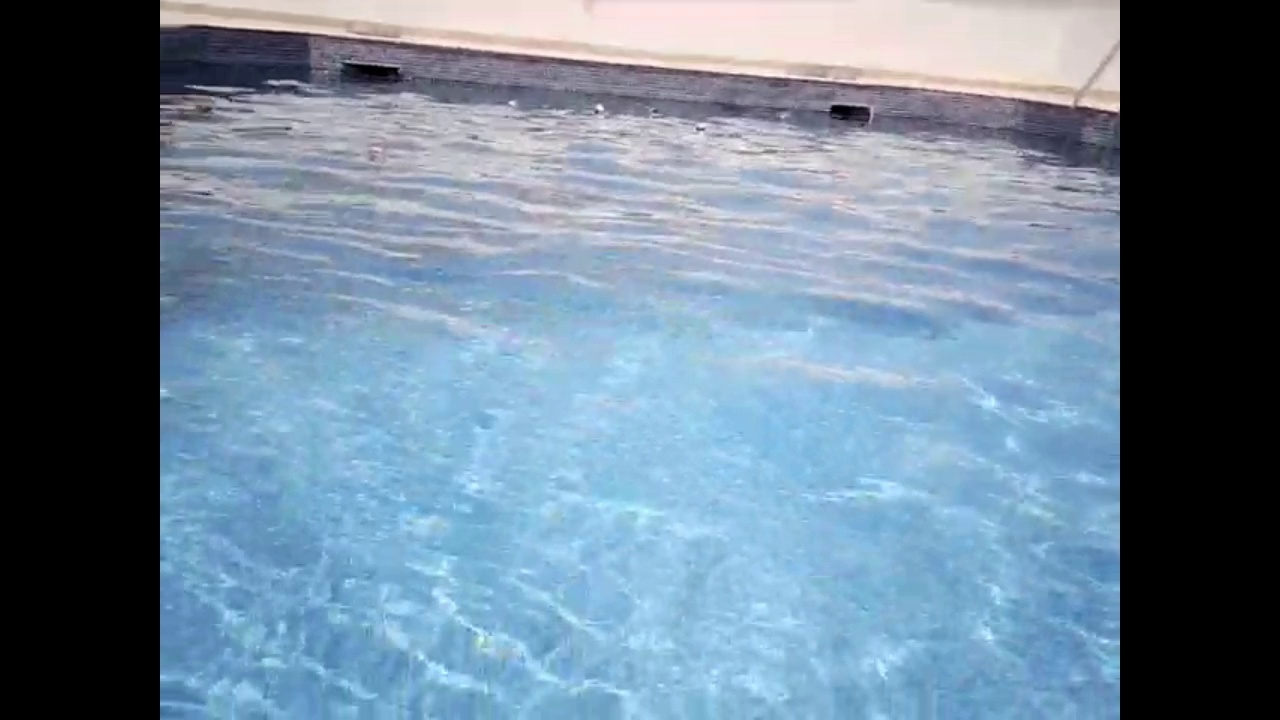debris: (769, 103, 794, 123), (690, 116, 710, 136), (637, 103, 663, 118), (588, 100, 607, 118), (505, 97, 524, 110)
